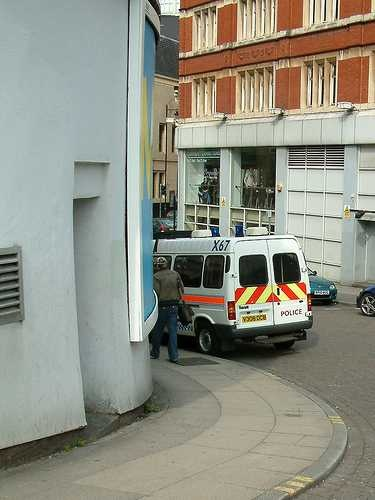Police Van: (138, 214, 319, 374)
